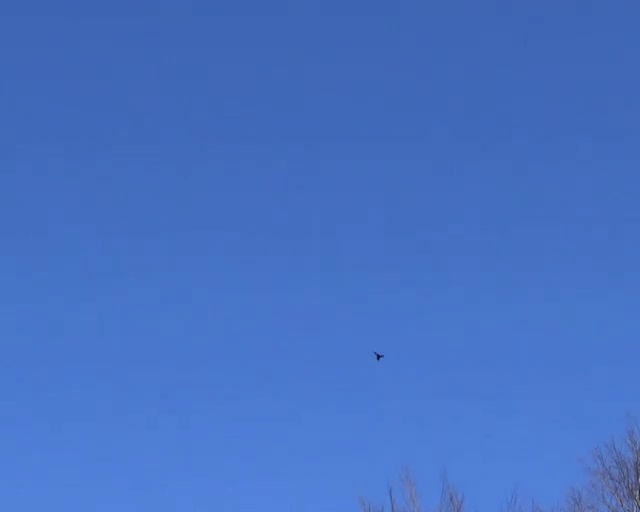BIRD: (373, 351, 384, 360)
